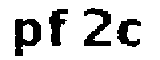2: (81, 6, 112, 50)
c: (119, 17, 144, 49)
f: (46, 6, 73, 53)
p: (7, 16, 44, 60)
